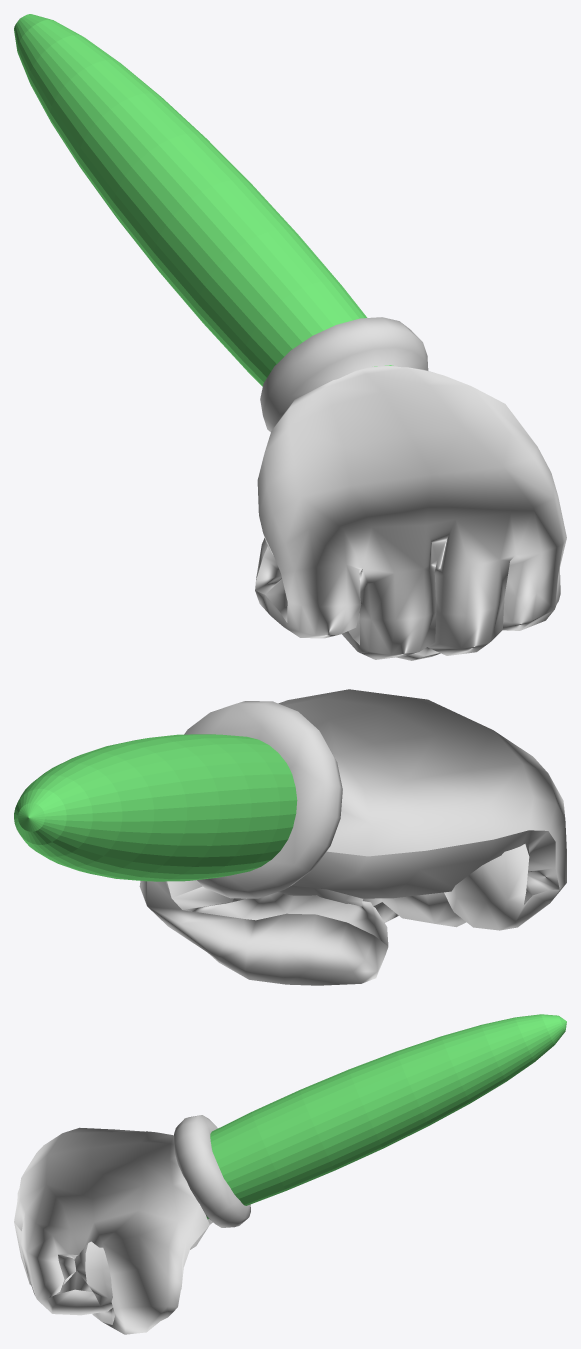
File: Lfist.glb
The picture shows the model from 3 angles, top to bottom: view 1: azimuth 30°, elevation 25°; view 2: azimuth 150°, elevation 25°; view 3: azimuth 270°, elevation 25°; orthographic projection. The views are drawn at different scales.
Visible parts, largest first — view 1: Object001.001, Sphere; view 2: Object001.001, Sphere; view 3: Object001.001, Sphere.
Boxes of the visible parts, <box> form: Object001.001: <box>255,317,566,660</box>; Sphere: <box>14,14,393,386</box>; Object001.001: <box>139,689,566,985</box>; Sphere: <box>14,734,297,881</box>; Object001.001: <box>14,1115,250,1334</box>; Sphere: <box>206,1014,566,1219</box>.
Size of the model in its own units: 0.3747 by 0.4877 by 0.8623.
